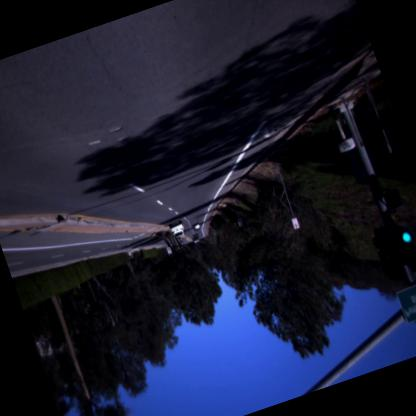trafficlight: (391, 224, 415, 282)
